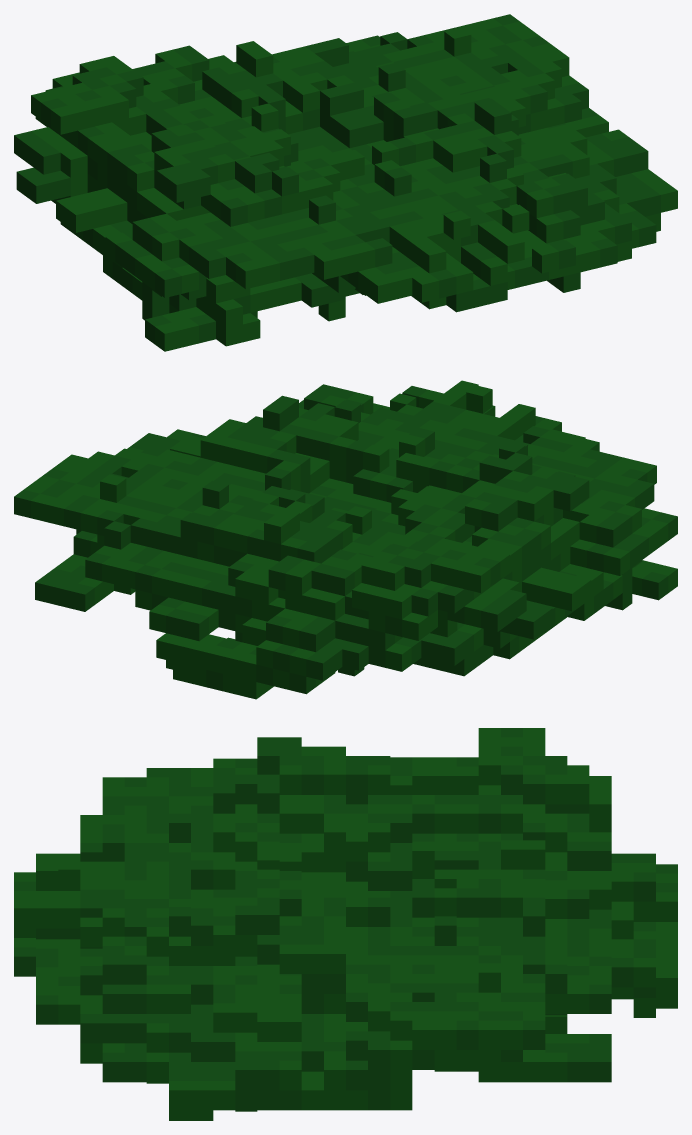
The model's file is start_end-37.obj.
The picture shows the model from 3 angles, top to bottom: view 1: azimuth 30°, elevation 25°; view 2: azimuth 150°, elevation 25°; view 3: azimuth 270°, elevation 25°; orthographic projection. The views are drawn at different scales.
Bounding box in the file's own units: 3 × 0.8 × 3.
1 material, 1 textured.
